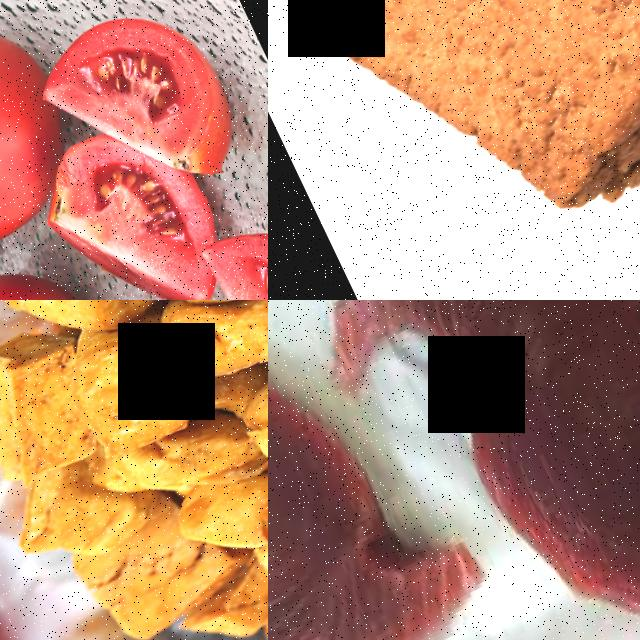tofu: (43, 311, 200, 479), (70, 504, 250, 640), (0, 312, 123, 509), (0, 300, 162, 357), (225, 339, 268, 533)
tomato: (22, 0, 259, 239), (25, 112, 237, 300), (0, 0, 98, 289), (195, 195, 268, 300)
tuna: (357, 300, 640, 640), (268, 306, 454, 640)
